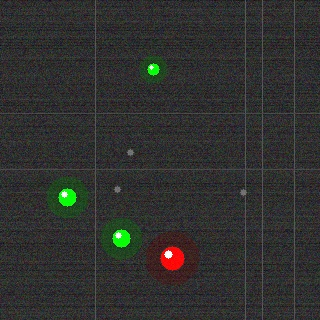green_normal: (56, 186, 78, 208), (110, 227, 132, 249), (145, 61, 161, 77)
red_fault: (158, 244, 186, 272)
